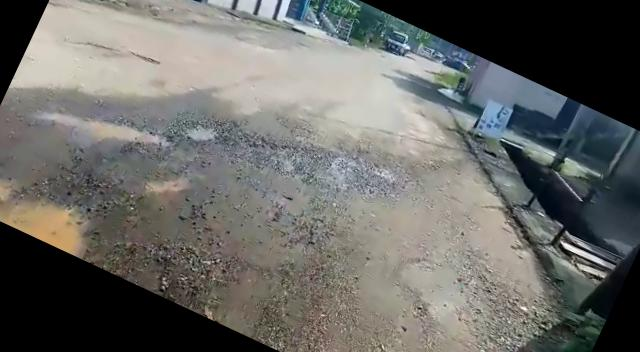pothole: (177, 113, 221, 150)
